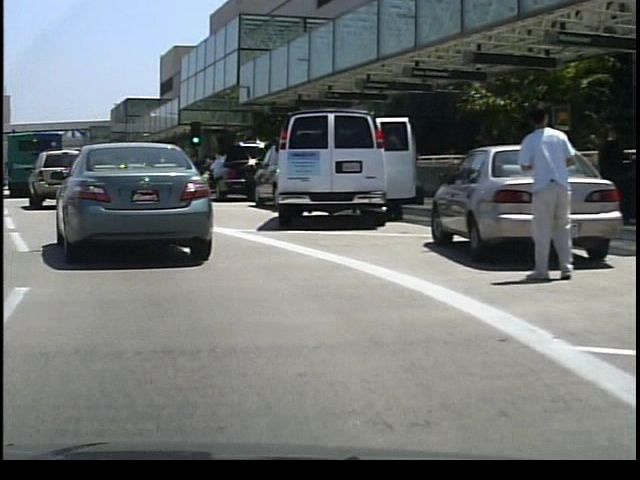person: (514, 98, 577, 285), (589, 117, 623, 229)
